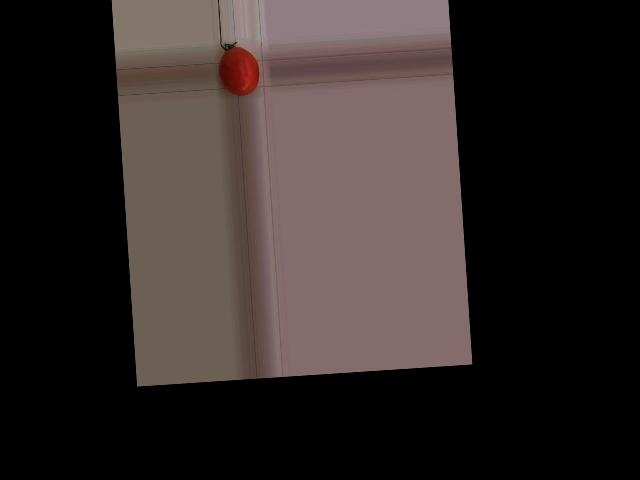tomato: (217, 45, 260, 97)
